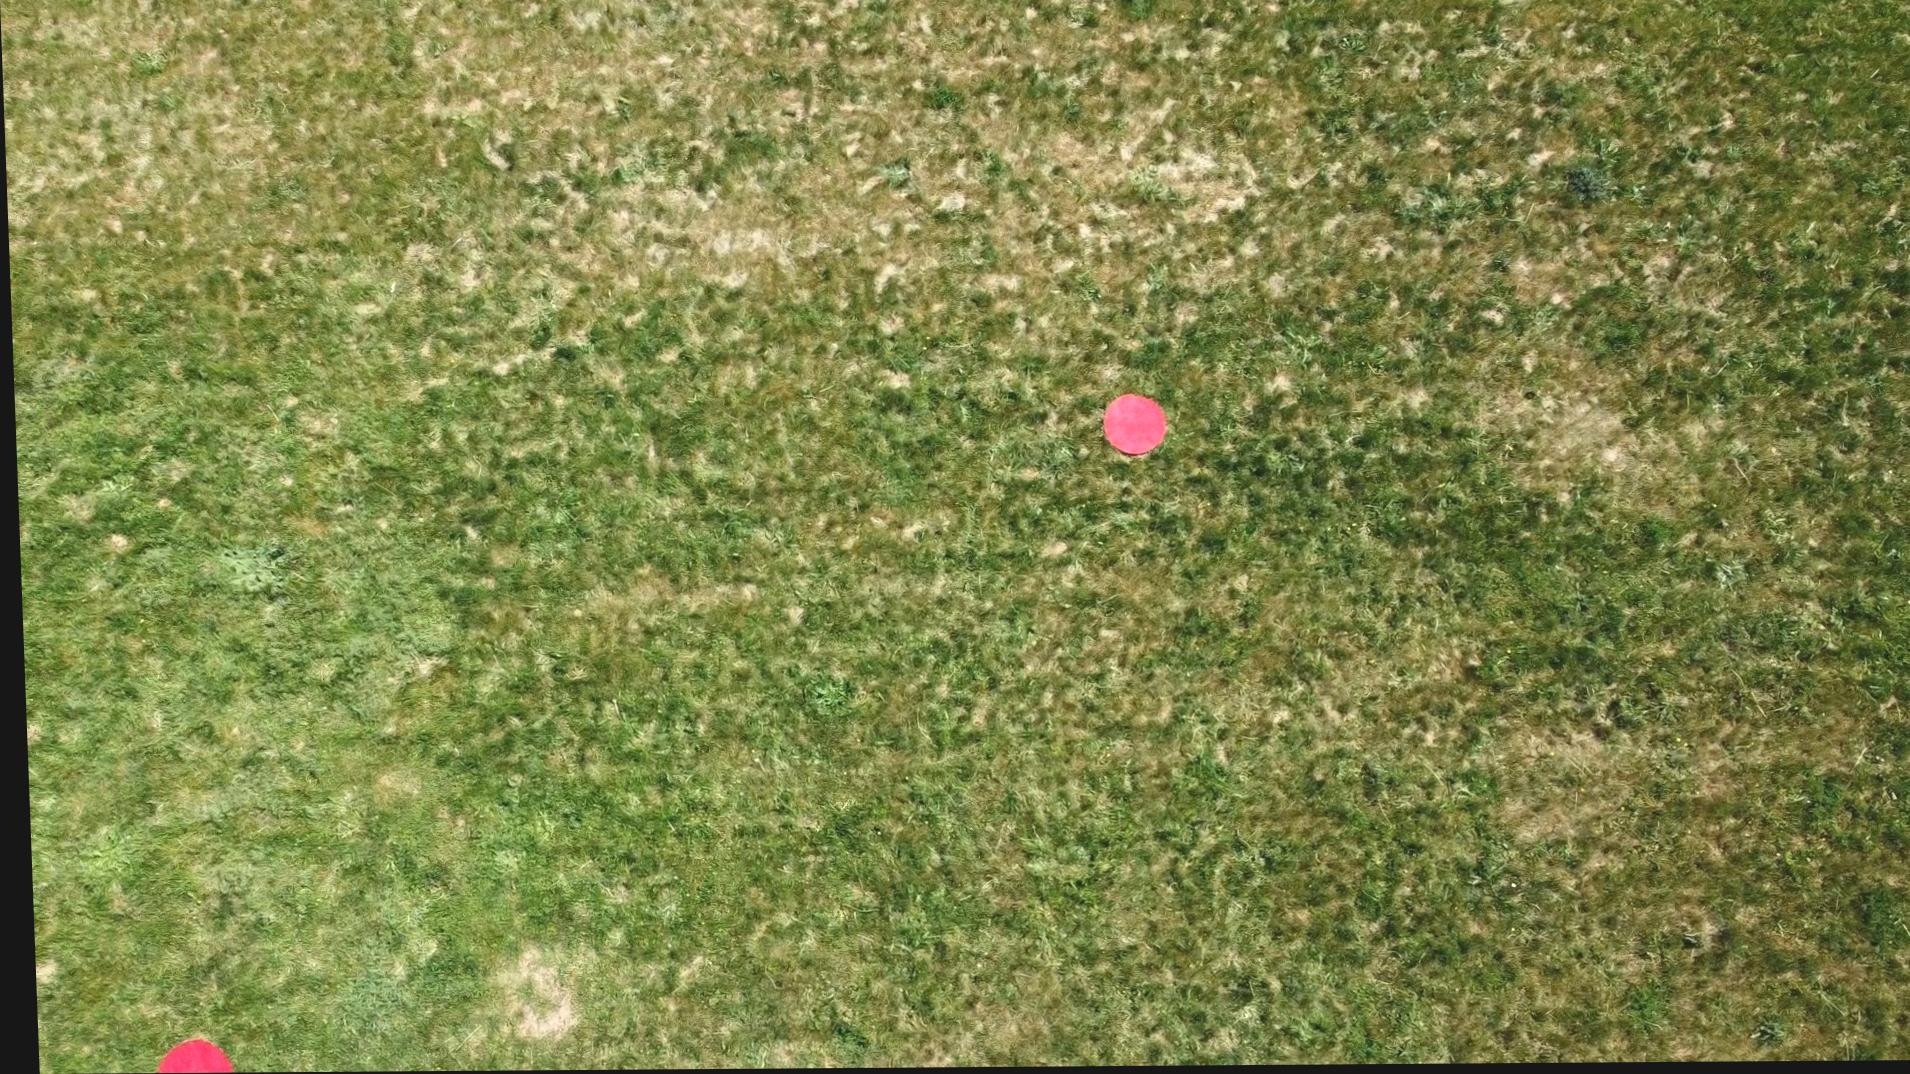Red: (1094, 392, 1169, 460), (138, 1033, 236, 1074)
